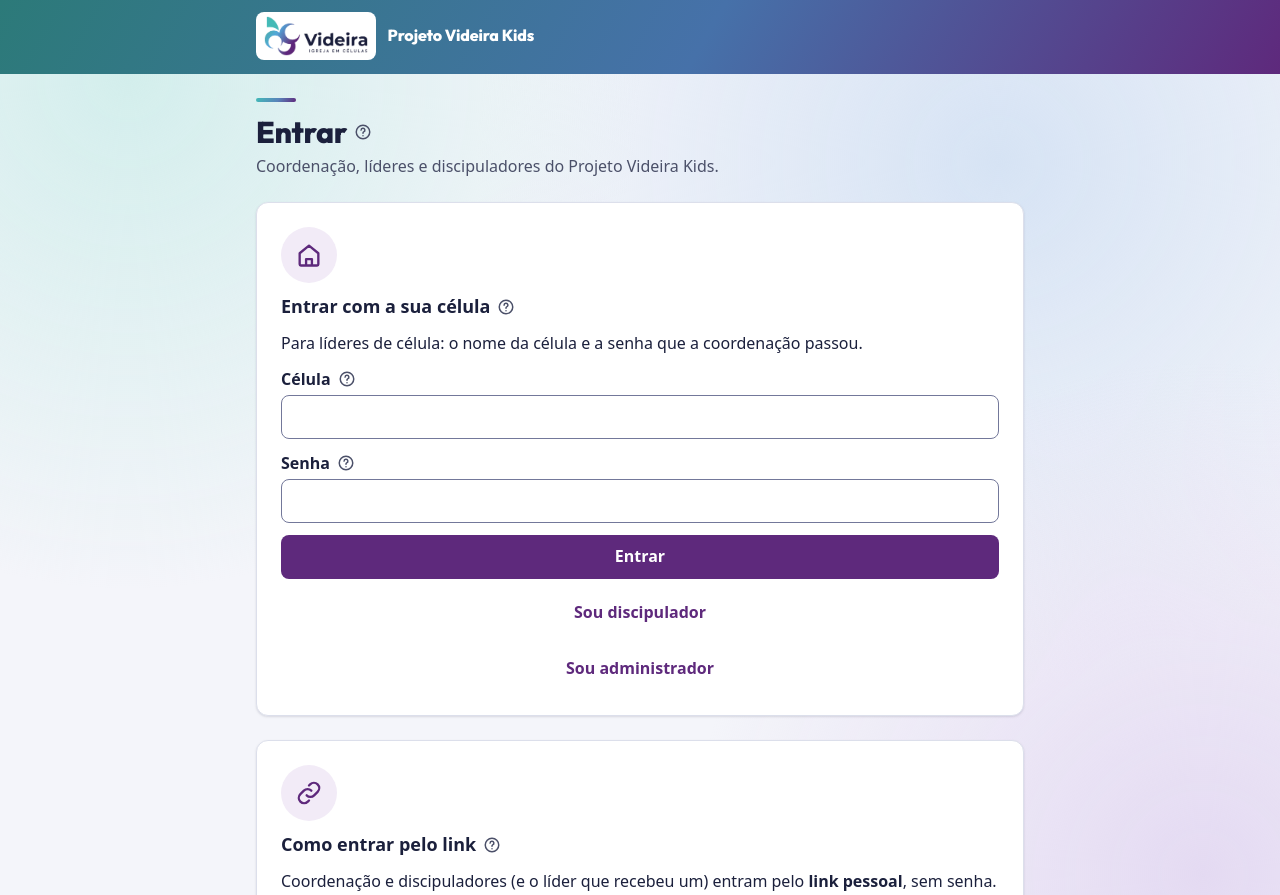
Scenario: RIFA-082: Sou discipulador em /entrar › nome e senha certos: POST /api/sessao/discipulador com os dois, como digitados, e vai para a /minha do discipulador
Click the button "Sou discipulador" at (640, 613), box [281,591,999,635]
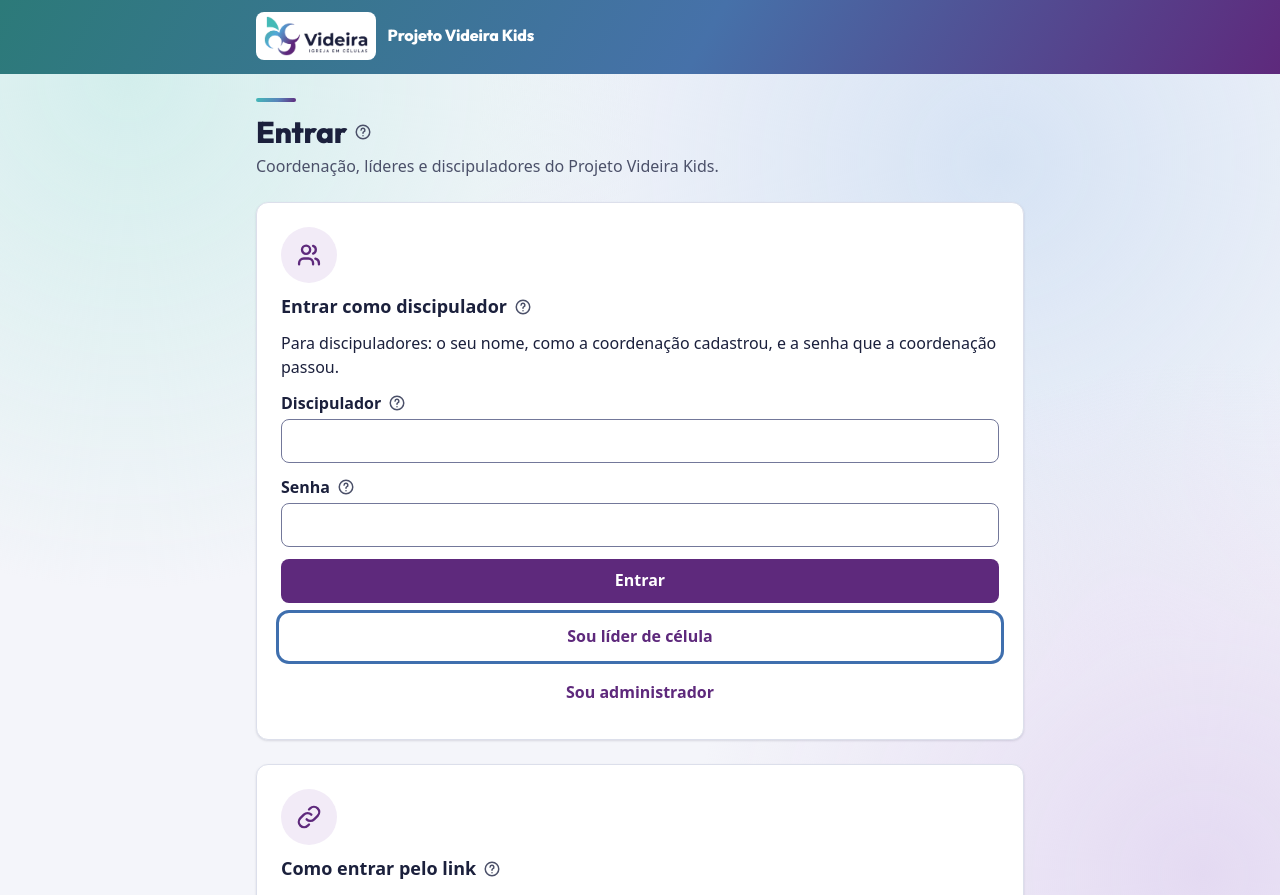
Type "  Pr. Fábio " into the field labelled "Discipulador" at (640, 441), box [281,419,999,463]
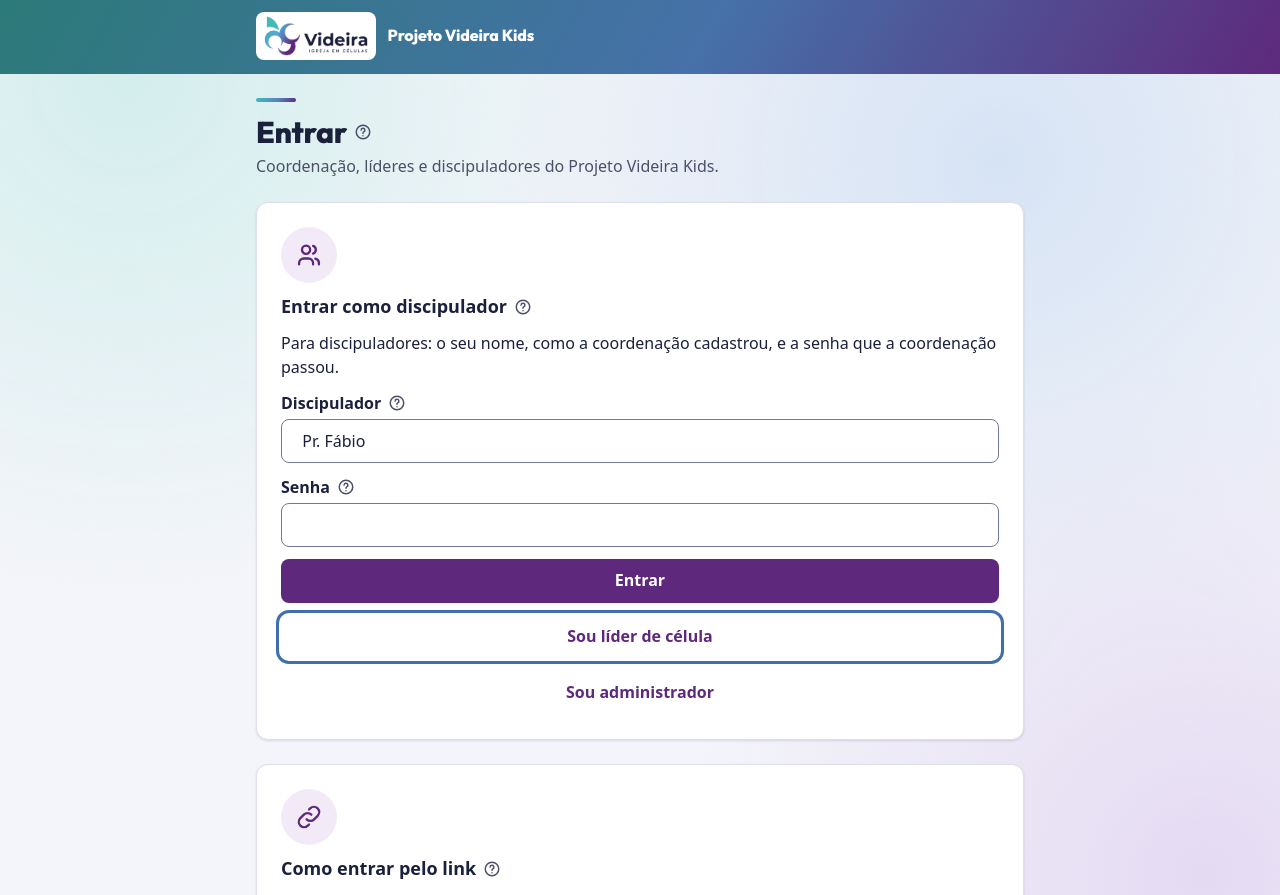
Type "@prfabio1234" into the password field labelled "Senha" at (640, 525), box [281,503,999,547]
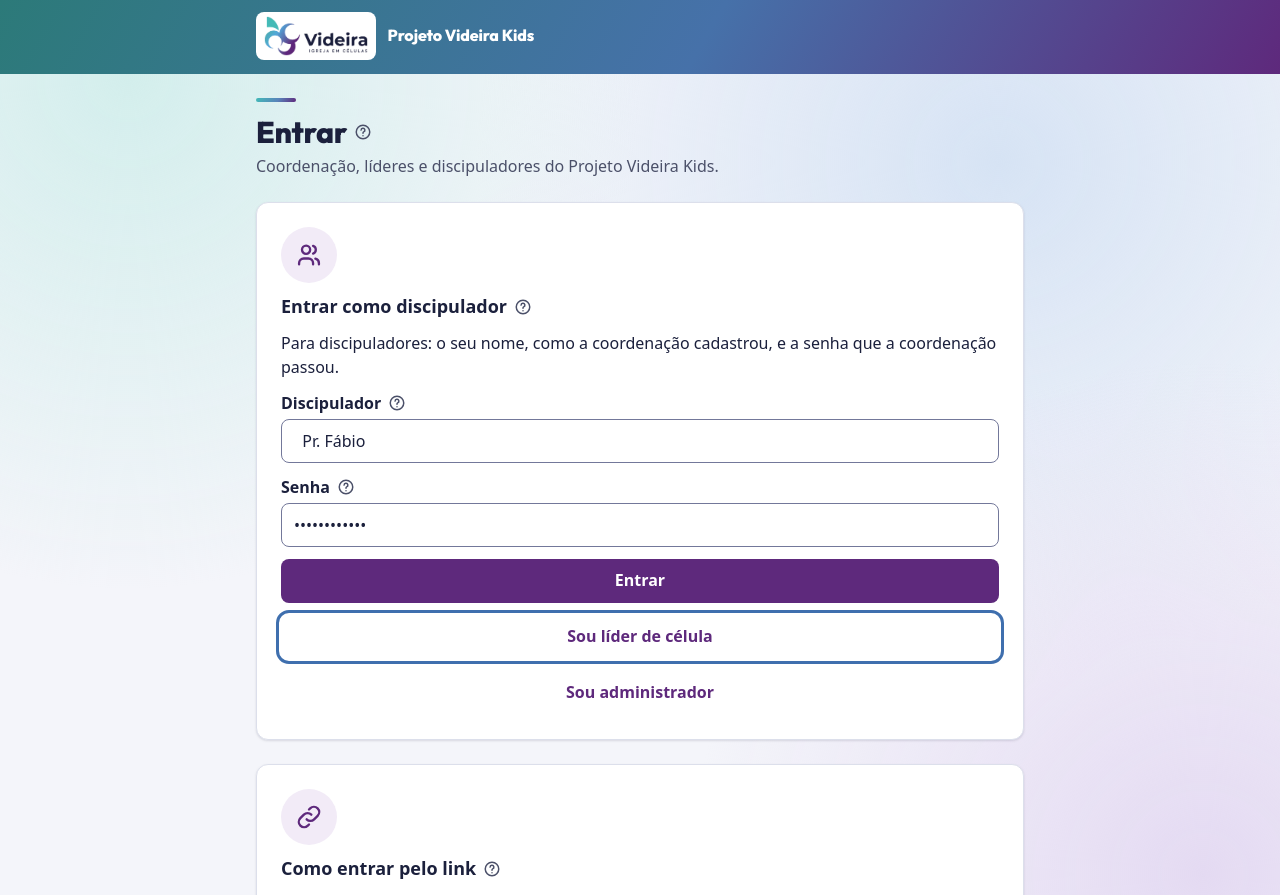
Click the button "Entrar" at (640, 581), box [281,559,999,603]
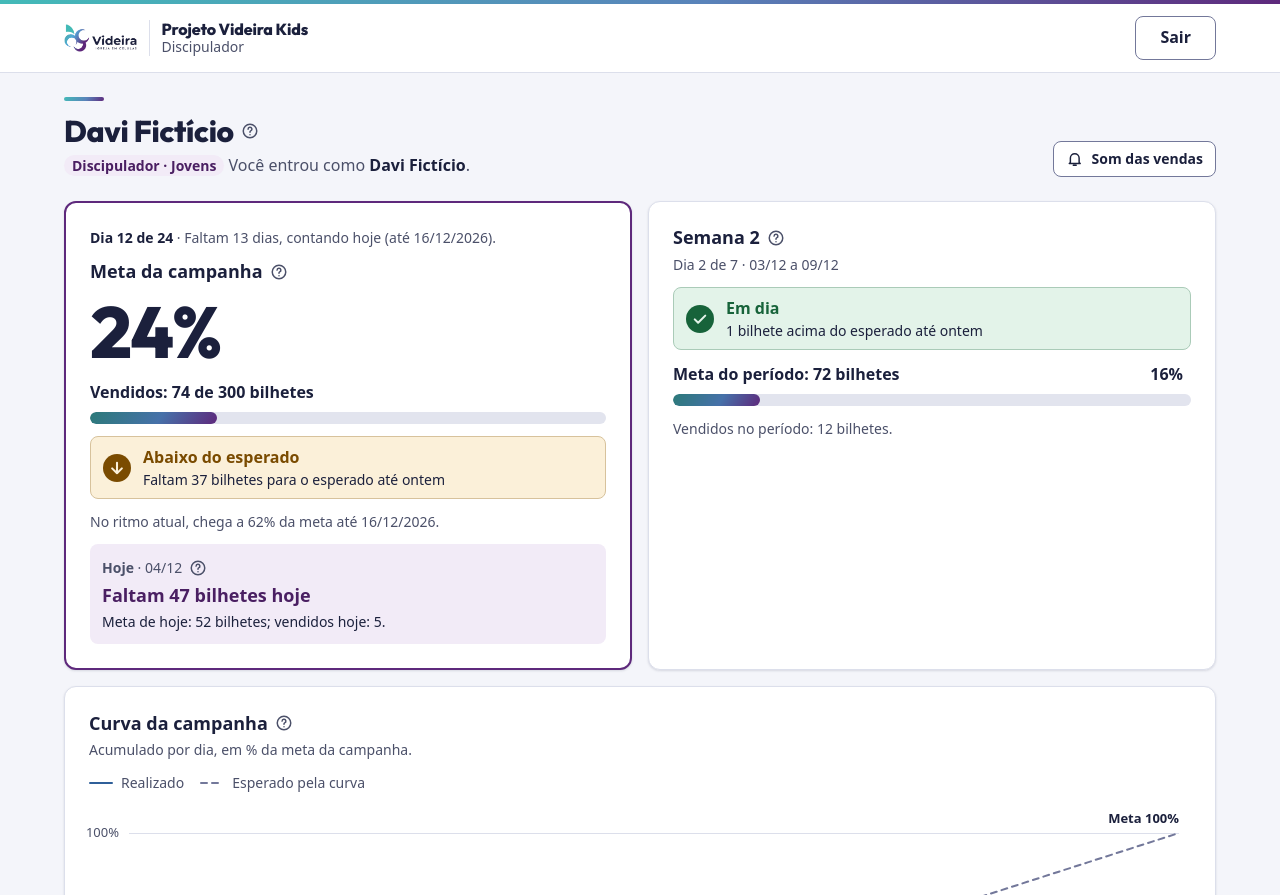
expect the heading "Davi Fictício" is shown: met, box [64,113,234,149]
